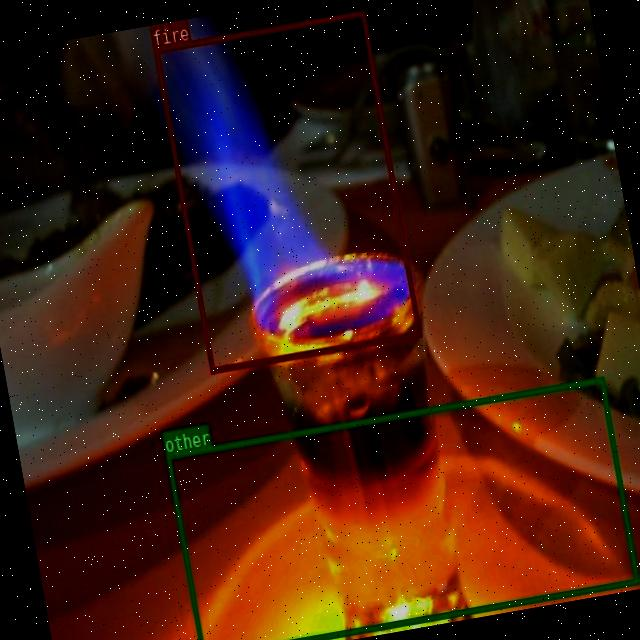fire: (152, 9, 421, 372)
